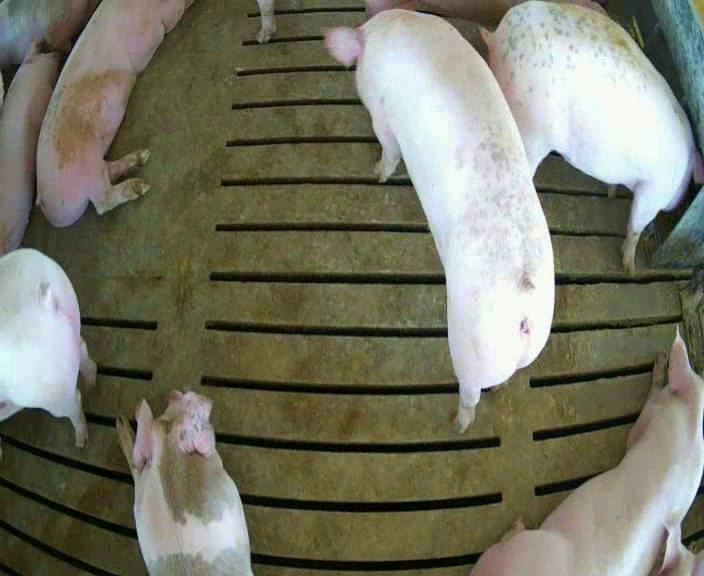pig: (326, 1, 553, 431), (480, 2, 703, 271), (473, 335, 703, 574), (37, 2, 187, 225), (116, 391, 250, 574), (0, 39, 61, 255), (0, 1, 97, 63)
